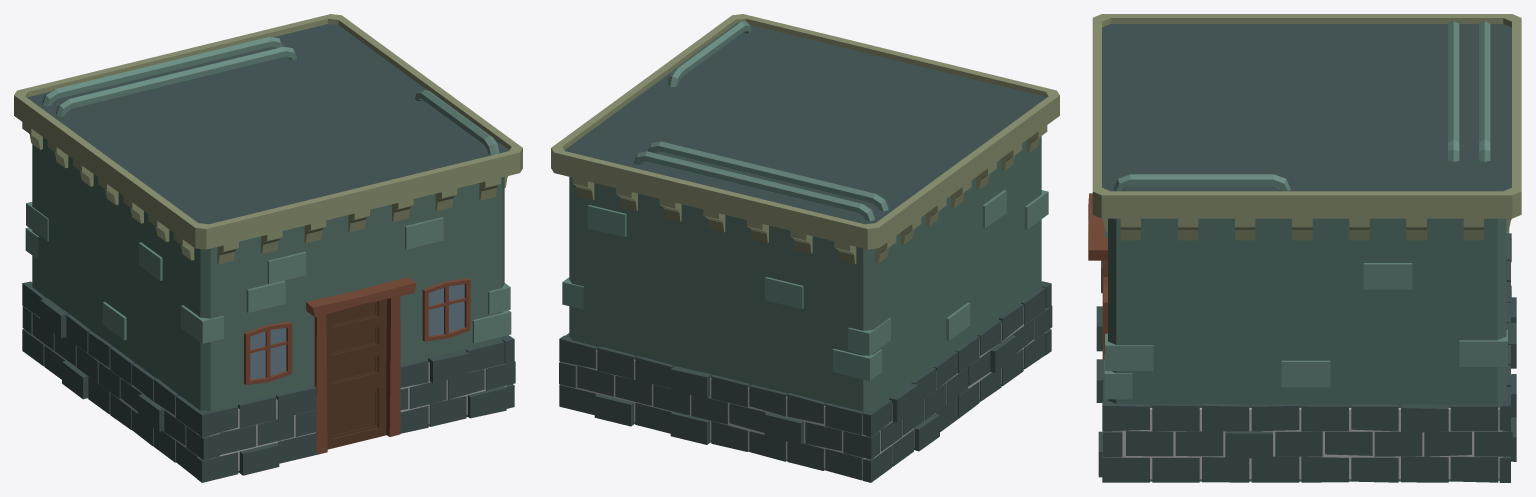
File: 1Story_Mat.glb
3 renders of one model, left to right at view 1: azimuth 30°, elevation 25°; view 2: azimuth 150°, elevation 25°; view 3: azimuth 270°, elevation 25°, orthographic. The views are drawn at different scales.
Parts seen in each view (by area): view 1: 1Story_Mat; view 2: 1Story_Mat; view 3: 1Story_Mat.
Part boxes in pixels (x1=…): 1Story_Mat: x1=14, y1=14, x2=522, y2=482; 1Story_Mat: x1=551, y1=14, x2=1059, y2=482; 1Story_Mat: x1=1088, y1=14, x2=1521, y2=482.
Bounding box in the file's own units: 2.15 × 1.67 × 2.17.
